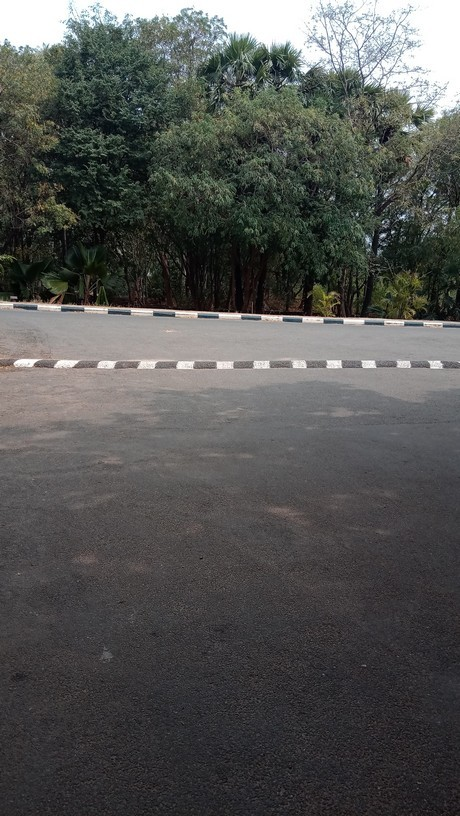bump: (1, 355, 460, 372)
